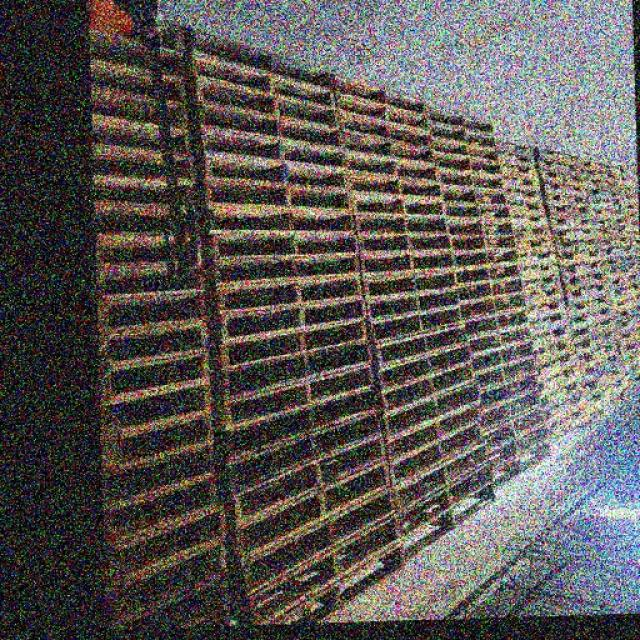non-igps: (241, 506, 413, 632), (235, 474, 404, 602), (234, 455, 400, 571), (225, 431, 392, 534), (221, 404, 391, 504), (216, 380, 387, 471), (250, 535, 409, 632), (92, 534, 238, 635), (215, 357, 380, 442), (91, 500, 239, 592), (217, 335, 382, 414), (92, 565, 244, 640), (214, 310, 373, 380), (93, 471, 229, 551), (184, 22, 338, 92), (92, 439, 228, 515), (216, 288, 371, 353), (391, 456, 498, 546), (400, 480, 500, 574), (188, 50, 338, 110), (388, 439, 494, 523), (90, 408, 222, 472), (93, 378, 225, 440), (377, 375, 488, 448), (385, 418, 492, 492), (196, 124, 350, 175), (212, 271, 366, 322), (92, 348, 218, 407), (383, 397, 486, 469), (190, 79, 340, 128), (199, 101, 346, 151), (376, 356, 482, 422), (91, 316, 213, 372), (81, 26, 192, 86), (210, 252, 368, 294), (198, 176, 358, 216), (368, 318, 477, 376), (372, 339, 477, 398), (200, 151, 350, 192), (90, 289, 215, 337), (81, 58, 195, 110), (204, 201, 362, 238), (81, 86, 196, 134), (205, 229, 362, 263), (81, 116, 198, 160), (85, 261, 213, 300), (364, 302, 470, 349), (481, 402, 554, 468), (83, 153, 201, 190), (80, 238, 208, 272), (362, 285, 468, 326), (86, 180, 205, 216), (331, 92, 433, 134), (335, 110, 434, 152), (490, 433, 557, 493), (90, 210, 203, 245), (336, 76, 430, 118), (357, 268, 462, 305), (338, 128, 437, 166), (477, 384, 552, 433), (483, 423, 555, 474), (342, 148, 441, 184), (342, 170, 446, 204), (356, 250, 455, 282), (480, 368, 546, 414), (542, 401, 600, 450), (349, 210, 450, 238), (349, 192, 446, 221), (537, 388, 600, 432), (464, 304, 533, 344), (533, 374, 595, 417), (458, 290, 530, 327), (472, 355, 542, 393), (471, 339, 539, 377), (534, 361, 589, 407), (467, 324, 536, 359), (355, 233, 453, 257), (530, 349, 584, 390), (428, 122, 500, 152), (456, 274, 528, 304), (427, 107, 496, 137), (432, 151, 505, 179), (427, 137, 502, 164), (528, 322, 578, 361), (434, 165, 506, 192), (580, 348, 632, 385), (438, 181, 511, 207), (559, 279, 619, 310), (575, 335, 625, 372), (569, 314, 622, 348), (533, 153, 591, 184), (528, 337, 579, 372), (558, 268, 617, 298), (572, 327, 624, 361), (531, 144, 591, 173), (524, 310, 574, 342), (568, 303, 618, 335), (439, 202, 515, 223), (546, 212, 607, 238), (552, 246, 613, 272), (535, 164, 591, 192), (522, 296, 572, 327), (454, 264, 524, 286), (564, 292, 615, 322), (446, 216, 517, 237), (538, 177, 592, 204), (518, 272, 566, 302), (498, 184, 547, 212), (448, 233, 520, 252), (549, 236, 611, 258), (521, 285, 568, 314), (539, 187, 595, 211), (542, 201, 600, 224), (496, 173, 543, 201), (503, 197, 549, 225), (554, 259, 610, 282), (449, 249, 523, 266), (516, 260, 564, 286), (494, 147, 540, 174), (551, 226, 610, 247), (510, 223, 559, 248), (512, 236, 561, 261), (515, 247, 562, 272), (496, 161, 541, 186), (506, 211, 552, 235), (493, 138, 536, 163)
